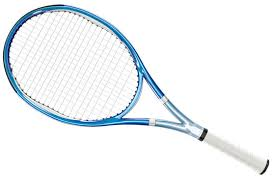tennis racket: (2, 4, 271, 178)
